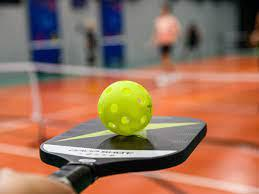ball: (97, 79, 153, 137)
